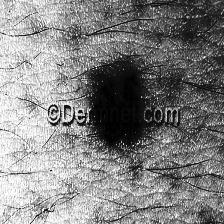Benign Marking or Mole: (95, 69, 142, 146)
